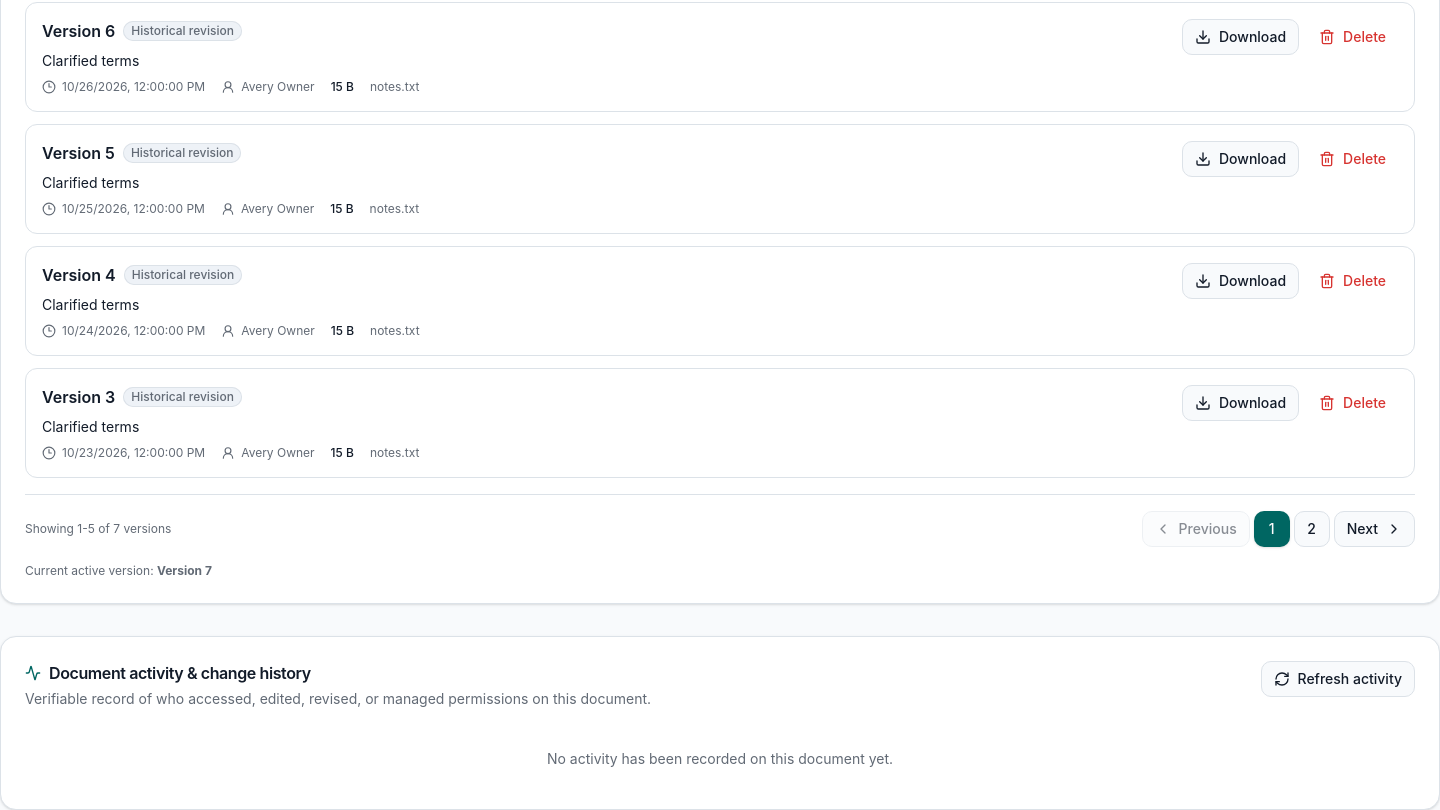
Test case: DocumentDetailsPage content workflows › paginates version history five at a time
(page scrolled)
Expected: the text "Showing 1-5 of 7 versions" is shown, x1=25 y1=521 x2=171 y2=537
Step 1. Click the button named "versions page 2" → [1312, 529], box x1=1294 y1=511 x2=1330 y2=547
(page scrolled)
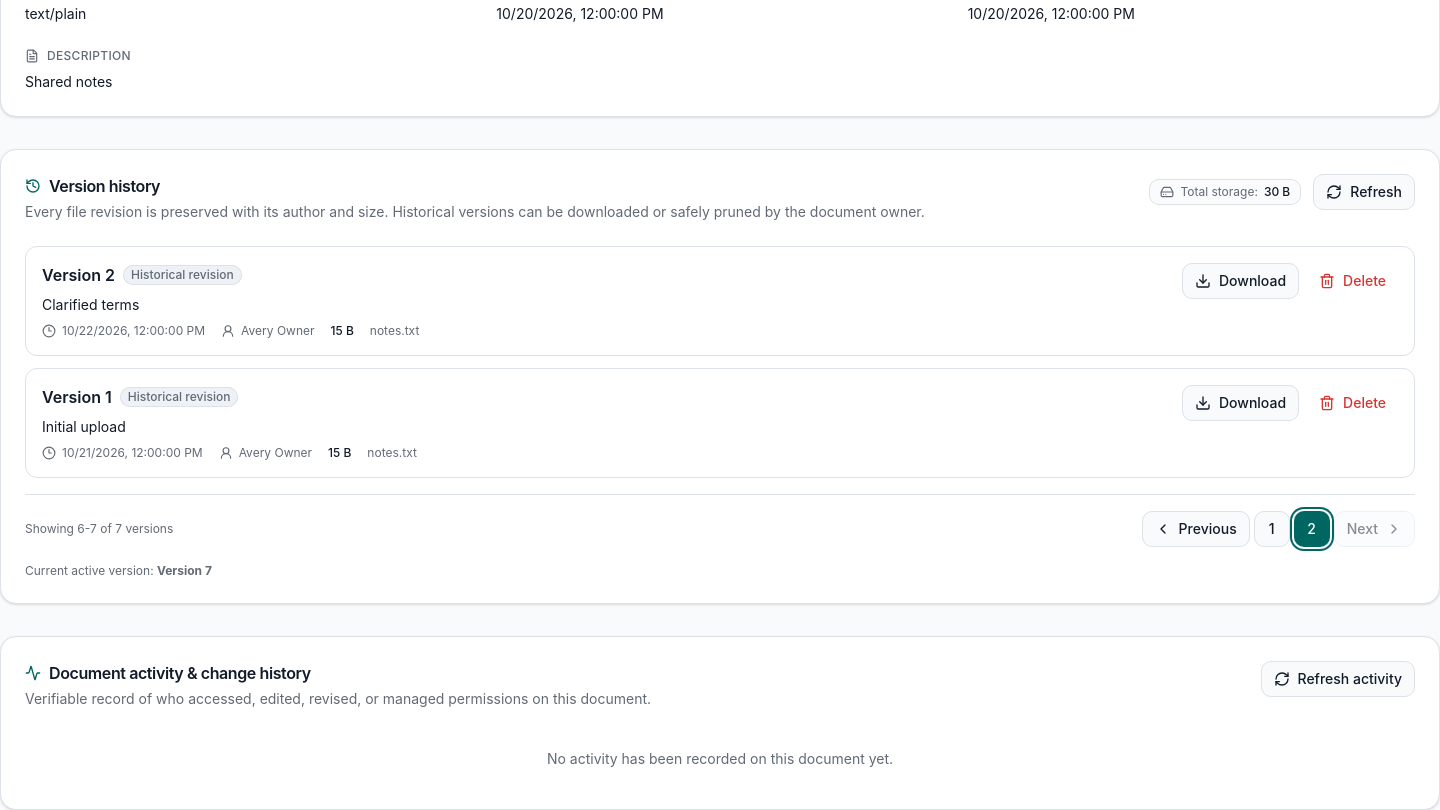
Now the text "Version 2" is shown, box x1=42 y1=263 x2=115 y2=287
Now the text "Showing 6-7 of 7 versions" is shown, box x1=25 y1=521 x2=173 y2=537
